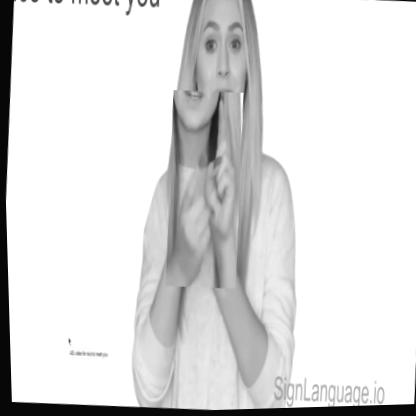NiceToMeetYou: (159, 90, 248, 292)
